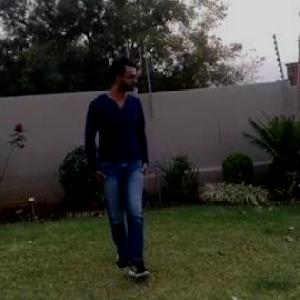follow: (87, 53, 152, 289)
